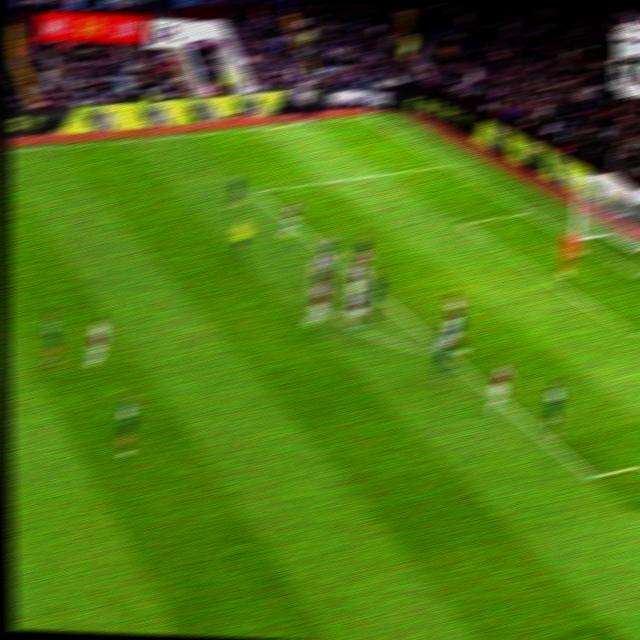bigarea_bottom_inner: (580, 463, 601, 488)
bigarea_top_inner: (246, 181, 266, 199)
bigarea_top_outter: (440, 158, 455, 170)
corner: (358, 114, 373, 119)
smallarea_bottom_inner: (625, 325, 640, 341)
smallarea_top_inner: (452, 215, 470, 229)
smallarea_top_outter: (518, 206, 533, 216)
